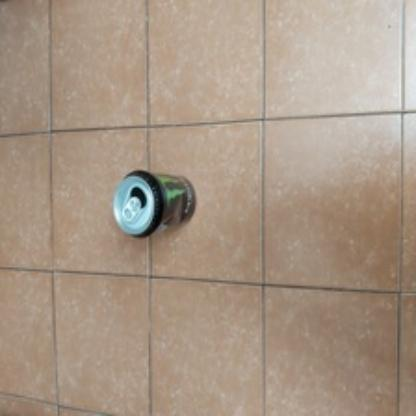Can: (112, 167, 197, 238)
